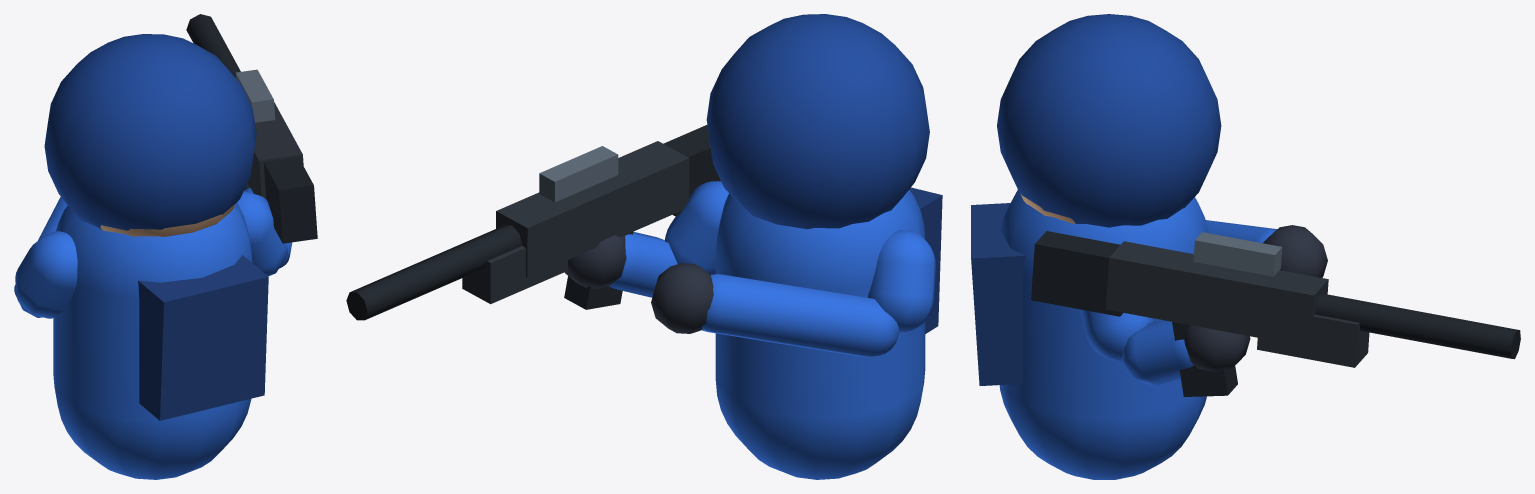
The model's file is original_blue_body.glb.
3 renders of one model, left to right at view 1: azimuth 30°, elevation 25°; view 2: azimuth 150°, elevation 25°; view 3: azimuth 270°, elevation 25°, orthographic. The views are drawn at different scales.
Visible parts, largest first — view 1: original_blue_body; view 2: original_blue_body; view 3: original_blue_body.
Boxes of the visible parts, x1,y1,x2,y2 form: original_blue_body: (14,14,317,479); original_blue_body: (346,14,942,479); original_blue_body: (971,14,1520,479).
Bounding box in the file's own units: 0.9716 × 1.05 × 1.17.
Materials: 1 (1 with a texture image).
